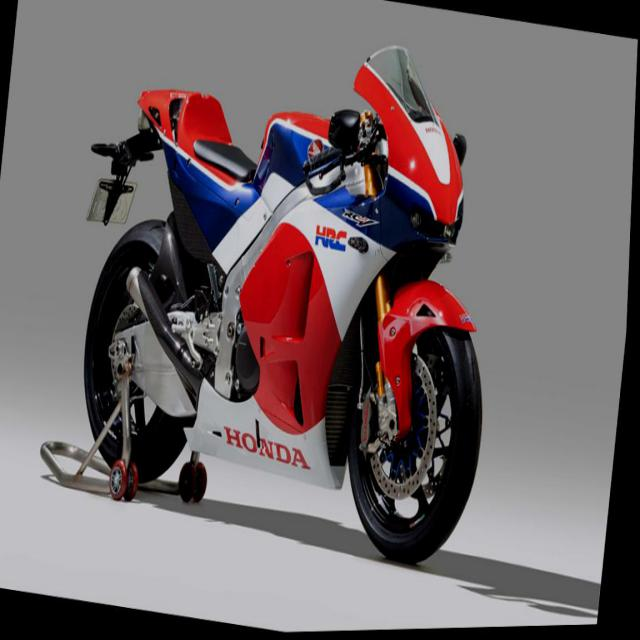HRC RCV 213: (62, 0, 524, 586)
